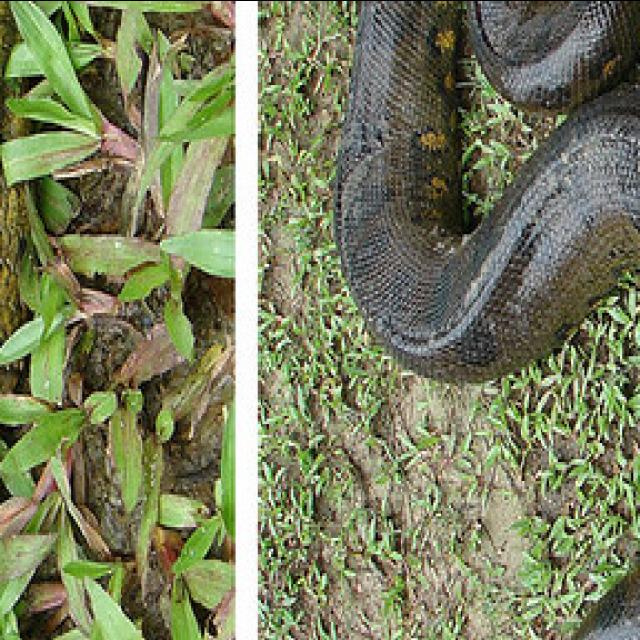snake: (329, 0, 640, 640)
